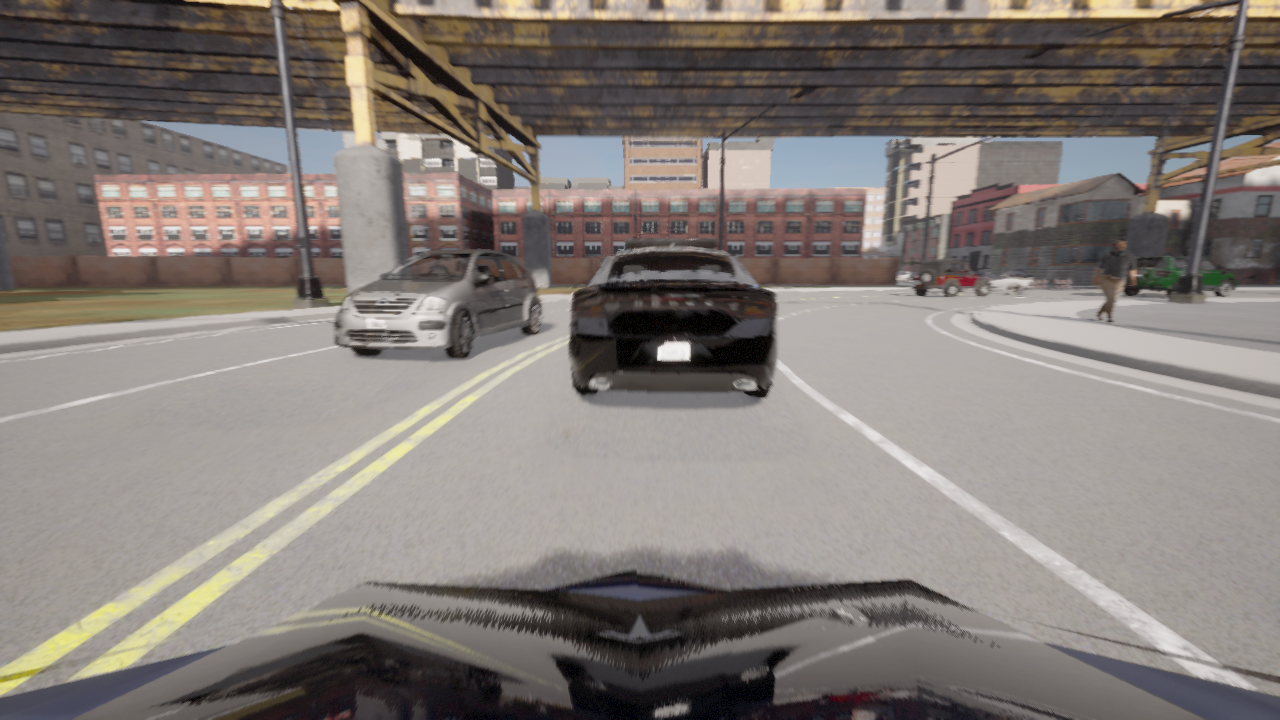cyclist: (0, 569, 1279, 719), (569, 238, 777, 396), (335, 249, 543, 358), (1123, 256, 1237, 297), (912, 259, 992, 297), (960, 272, 1035, 293), (1000, 269, 1031, 278), (898, 270, 917, 282)
pedestrian: (1094, 237, 1136, 322)
